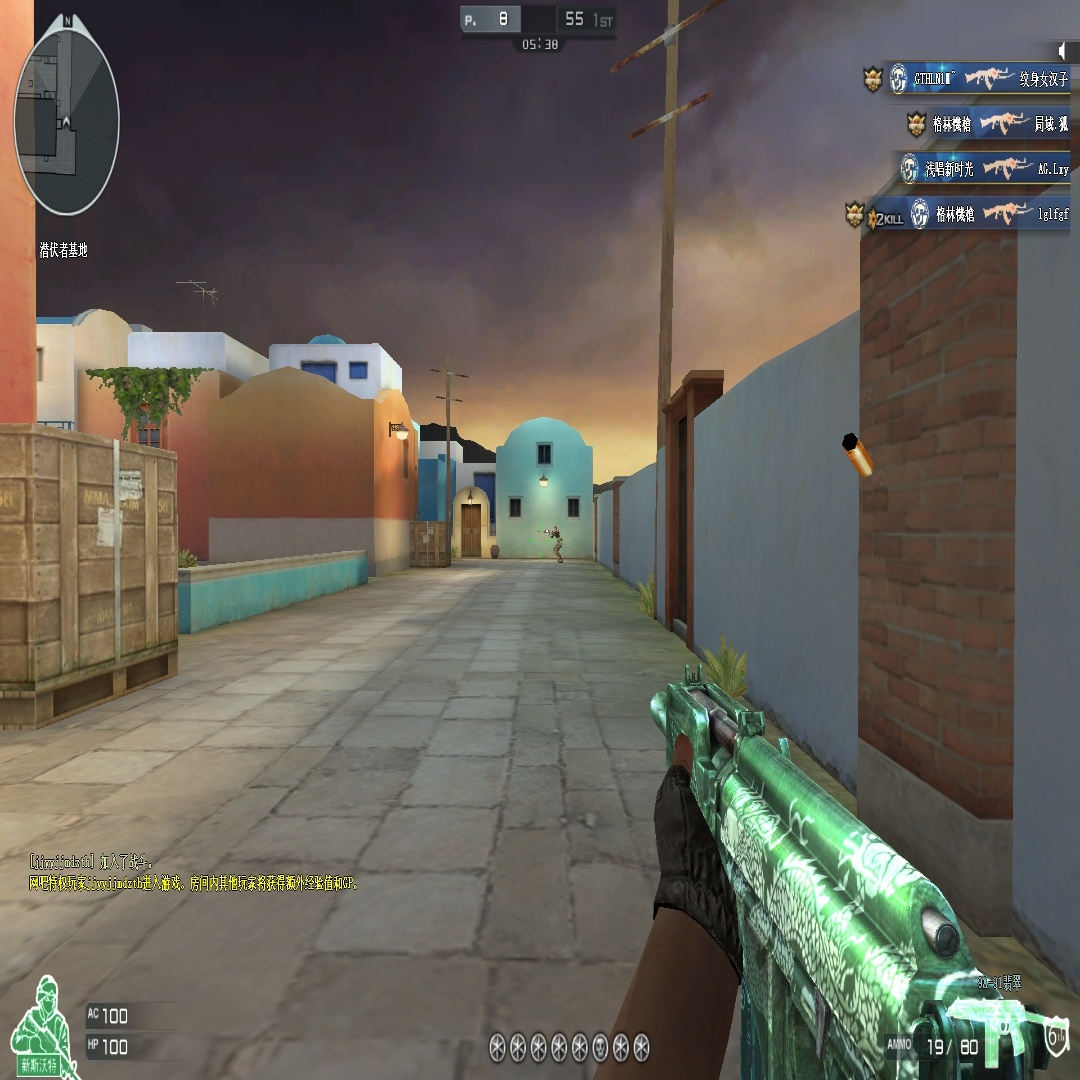p: (550, 525, 564, 566)
